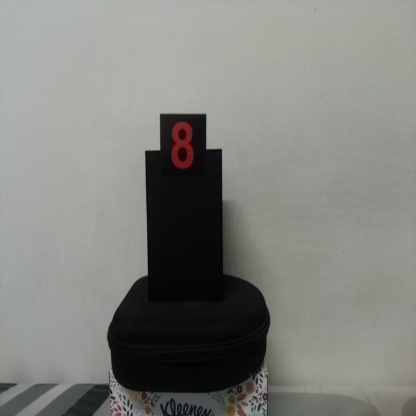id_8: (160, 115, 206, 190)
